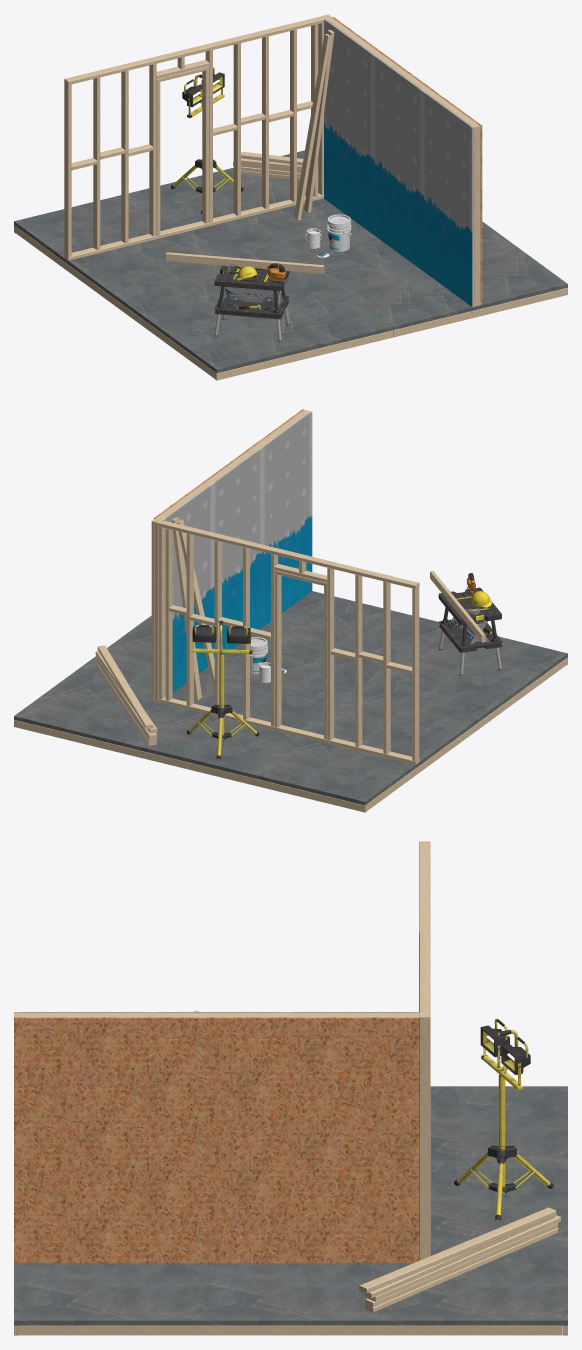
Rendered from SampleScene.gltf.
3 views of the same model, one above another, from view 1: azimuth 30°, elevation 25°; view 2: azimuth 150°, elevation 25°; view 3: azimuth 270°, elevation 25° (orthographic). The views are drawn at different scales.
Visible parts, largest first — view 1: Ground, Drywall Panel, Stud Frame, Stud Pile, Stud, Bench Bottom, OSB Panel, Paint 5G Bucket, Light_Heads_Low, Bench Top, Legs_Low, Bench Top Low (+1 smaller); view 2: Ground, Stud Frame, Drywall Panel, Stud Pile, Legs_Low, Light_Heads_Low, Bench Top, Stud, Bench Bottom, Paint 5G Bucket; view 3: OSB Panel, Ground, Stud Frame, Stud Pile, Legs_Low, Light_Heads_Low.
Boxes of the visible parts, x1,y1,x2,y2 form: Ground: (14,150,567,380); Drywall Panel: (324,19,473,307); Stud Frame: (64,14,480,306); Stud Pile: (233,29,334,219); Stud: (166,252,324,273); Bench Bottom: (214,293,288,319); OSB Panel: (332,17,482,304); Paint 5G Bucket: (327,214,351,251); Light_Heads_Low: (182,67,224,114); Bench Top: (215,265,288,290); Legs_Low: (170,94,243,213); Bench Top Low: (214,268,289,290); Ground: (14,591,567,812); Stud Frame: (151,409,419,764); Drywall Panel: (162,411,312,692); Stud Pile: (95,517,214,745); Legs_Low: (186,648,259,759); Light_Heads_Low: (192,620,250,653); Bench Top: (439,587,501,624); Stud: (430,571,485,642); Bench Bottom: (441,619,502,652); Paint 5G Bucket: (242,637,267,674); OSB Panel: (14,1017,419,1263); Ground: (14,1086,567,1335); Stud Frame: (14,841,430,1260); Stud Pile: (359,1207,560,1312); Legs_Low: (454,1055,553,1220); Light_Heads_Low: (480,1018,530,1085).
Bounding box in the file's own units: 5 × 2.59 × 5.
Materials: 24 (20 with a texture image).
